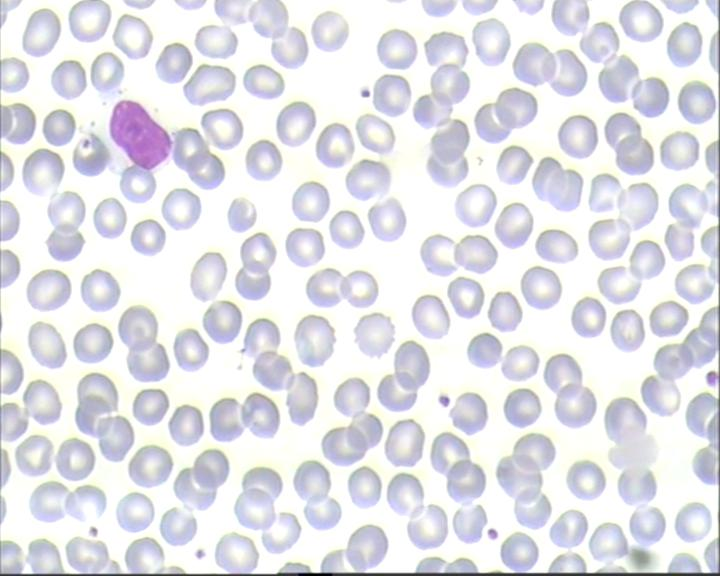mono: (85, 75, 180, 179)
